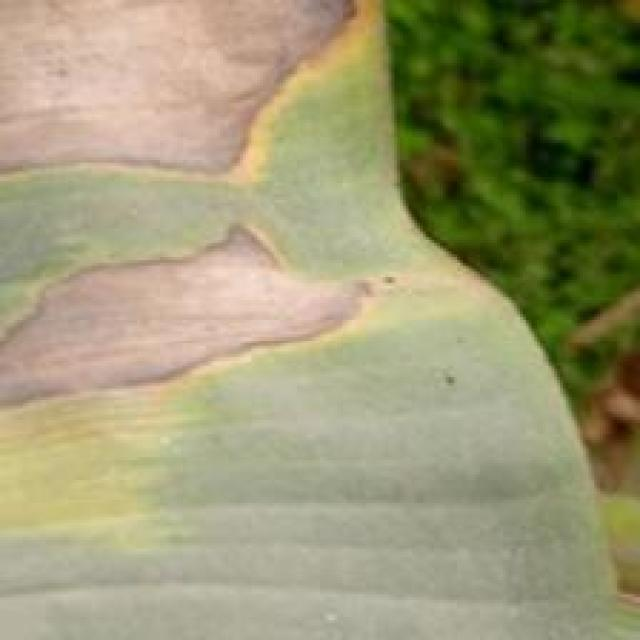Bacterial_spot: (0, 216, 388, 422), (0, 0, 368, 191)
